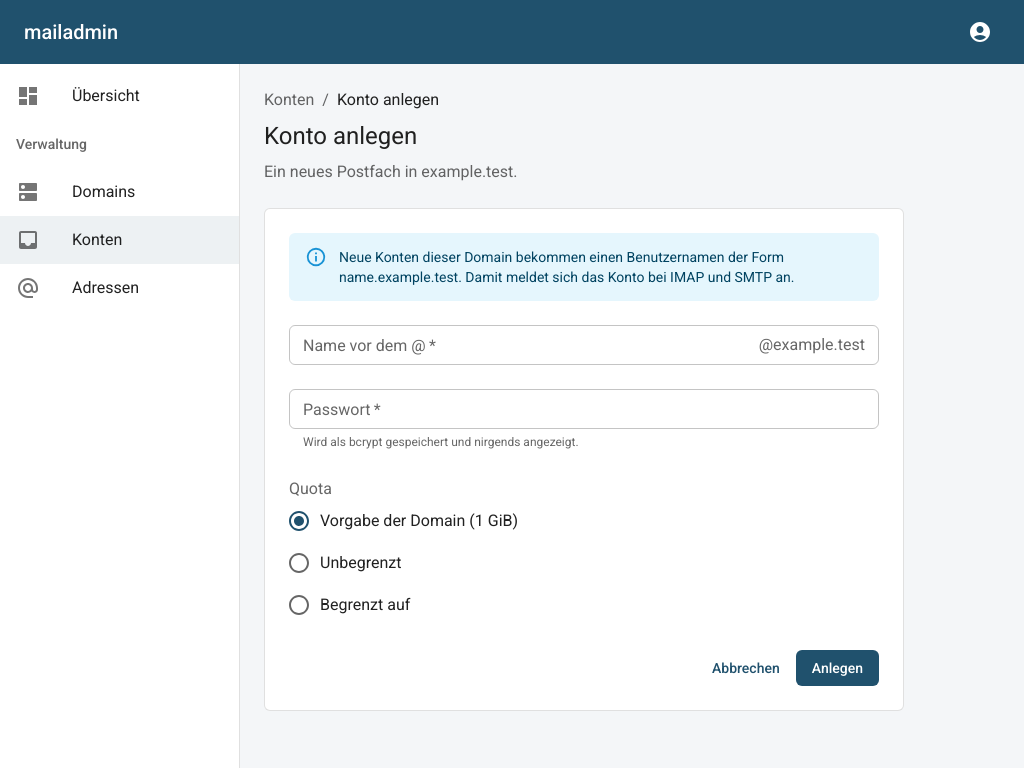
creating an account (A2) › checks required fields itself and puts server field errors on their field
This screenshot has width=1024, height=768.
Step 1. Click the button "Anlegen" → (837, 668), box [796,650,879,686]
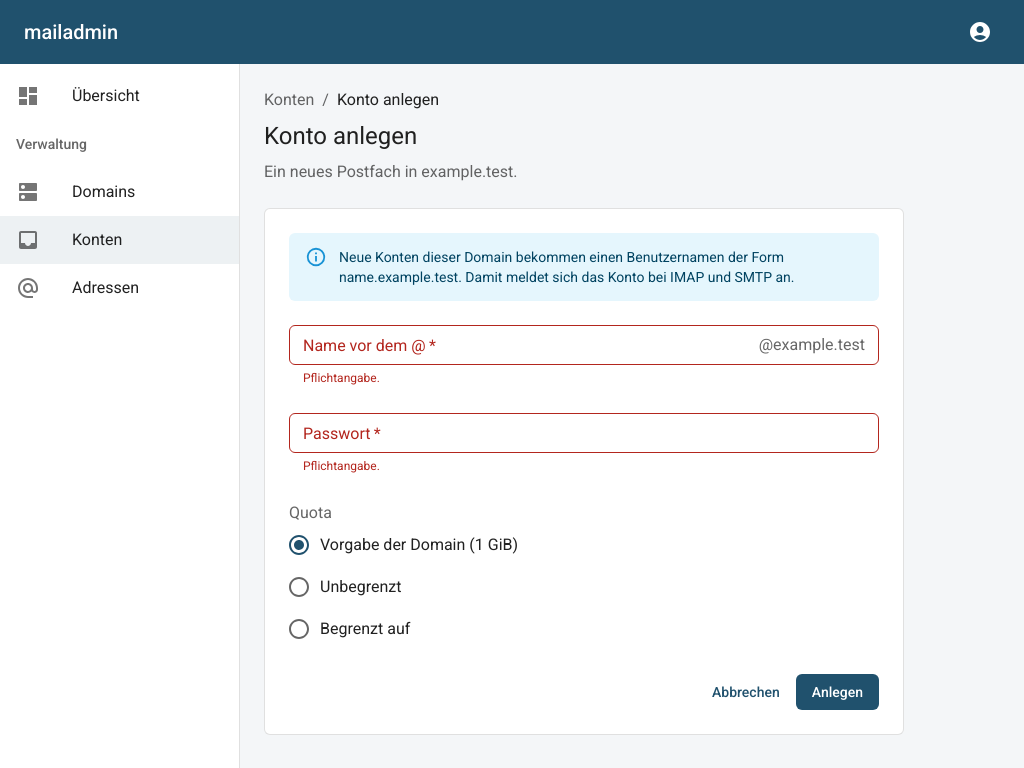
Result: the text "Pflichtangabe." is shown 2 times at [303,371,380,385]; [303,459,380,473]
Step 2. Type "b b" into the field labelled "Name vor dem @ *" → (520, 345), box [289,325,751,365]
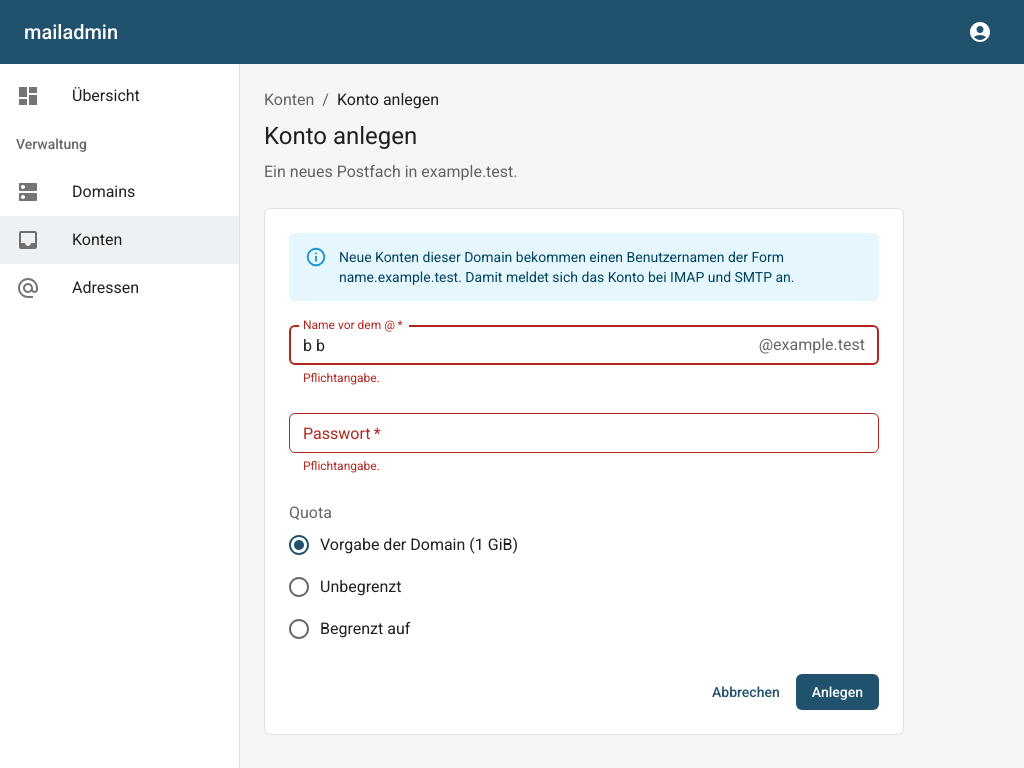
Step 3. Type "secret" into the password field labelled "Passwort *" → (584, 433), box [289,413,879,453]
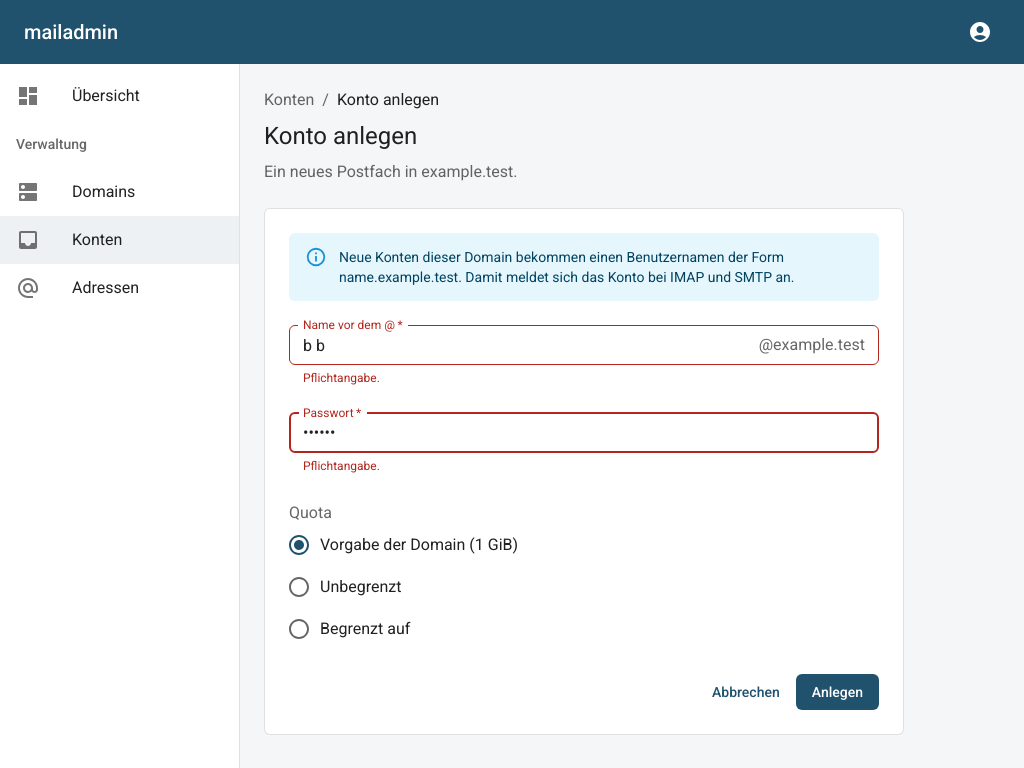
Step 4. Click the button "Anlegen" → (837, 692), box [796,674,879,710]
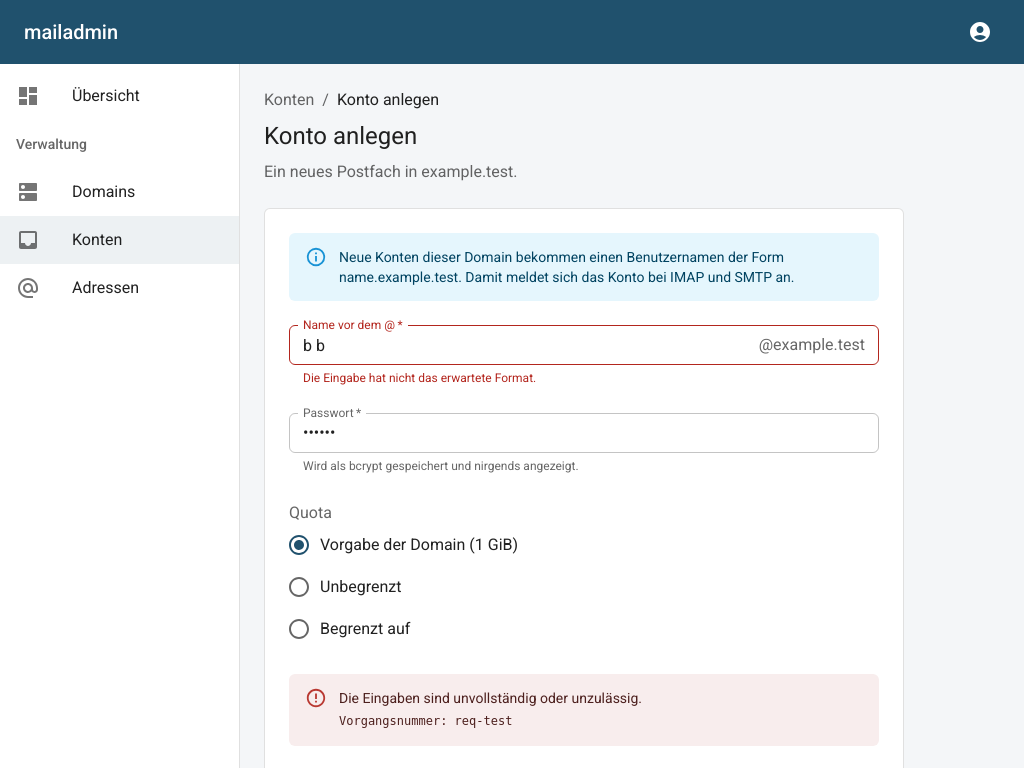
Result: the text "Die Eingabe hat nicht das erwartete Format." is shown at [303,371,536,385]
